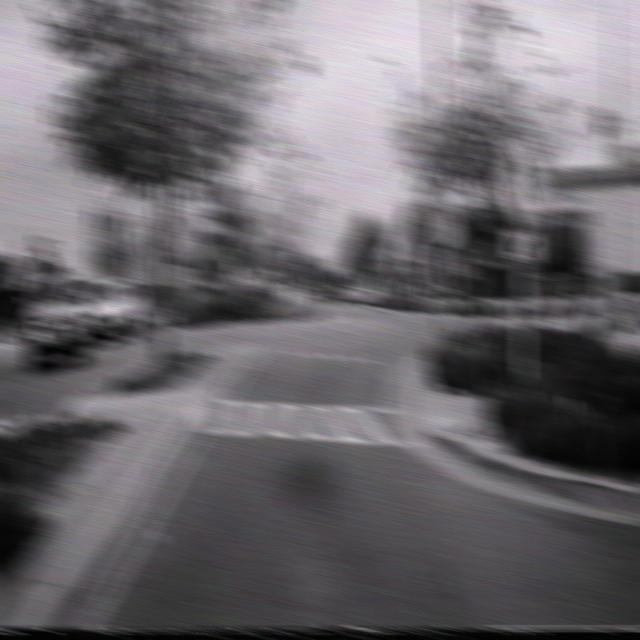pedestrianCrossing: (493, 132, 549, 228), (382, 239, 402, 265)
yield: (235, 186, 262, 225)
